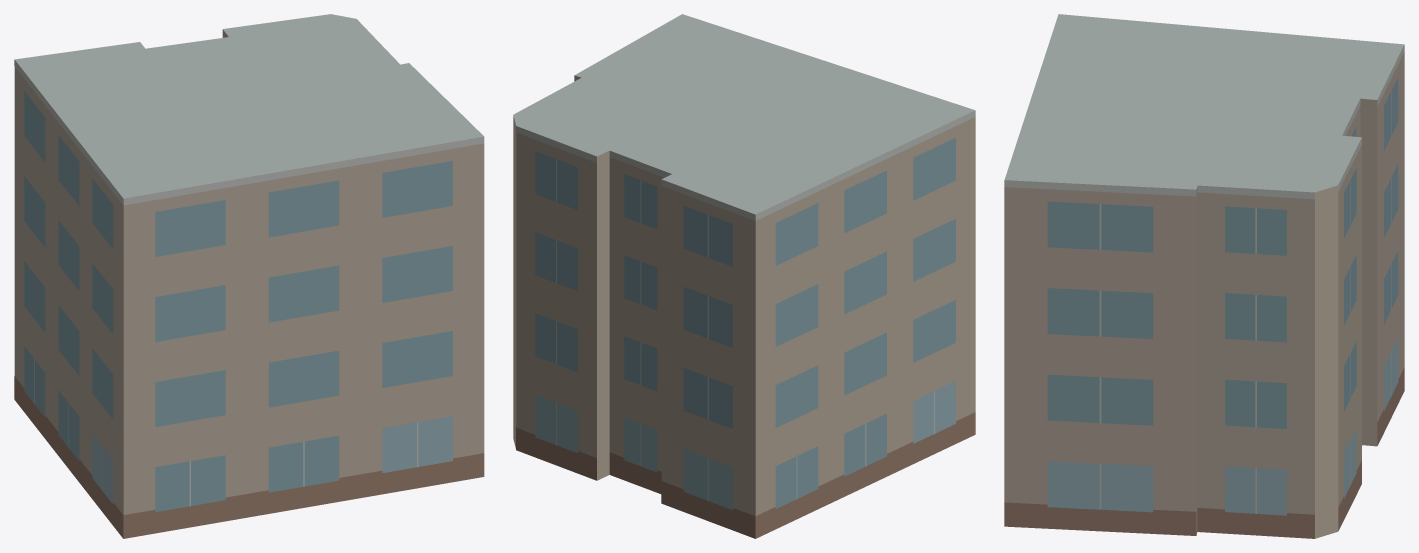
Rendered from survey-upis-32806180.glb.
3 renders of one model, left to right at view 1: azimuth 30°, elevation 25°; view 2: azimuth 150°, elevation 25°; view 3: azimuth 270°, elevation 25°, orthographic. The views are drawn at different scales.
Parts seen in each view (by area): view 1: survey-upis-32806180.tmp; view 2: survey-upis-32806180.tmp; view 3: survey-upis-32806180.tmp.
Boxes of the visible parts, box(x1,y1,x2,y2) form: survey-upis-32806180.tmp: box(14, 14, 484, 538); survey-upis-32806180.tmp: box(513, 14, 975, 538); survey-upis-32806180.tmp: box(1004, 14, 1404, 538).
Size of the model in its own units: 13.49 by 12.2 by 12.78.
